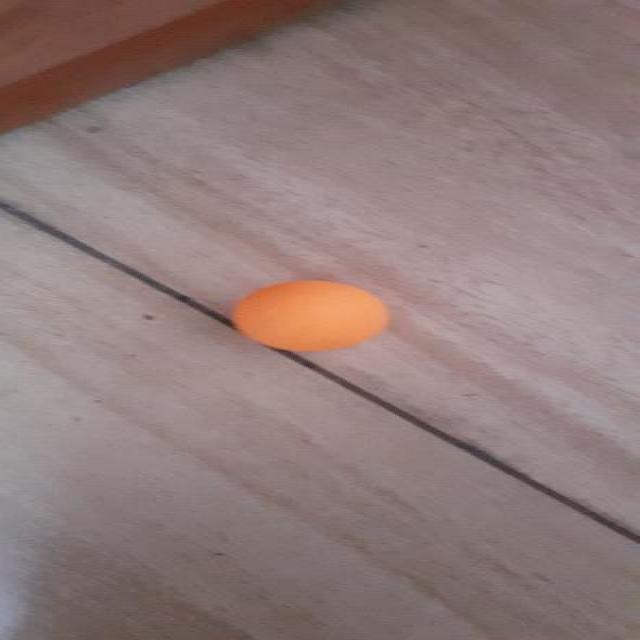oball: (234, 283, 384, 347)
